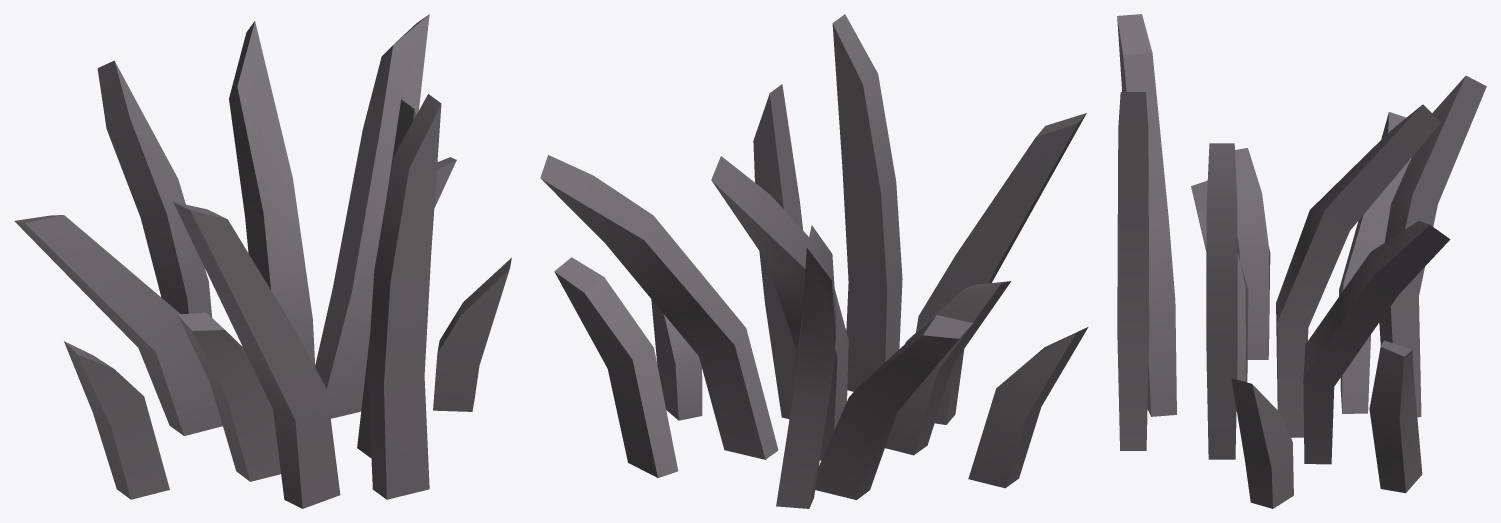
Rendered from quaternius-ultimate-space-pack-grass-1-transformed.glb.
3 renders of one model, left to right at view 1: azimuth 30°, elevation 25°; view 2: azimuth 150°, elevation 25°; view 3: azimuth 270°, elevation 25°, orthographic. The views are drawn at different scales.
Visible parts, largest first — view 1: Grass_1; view 2: Grass_1; view 3: Grass_1.
Boxes of the visible parts, x1,y1,x2,y2 form: Grass_1: [14, 14, 511, 508]; Grass_1: [540, 14, 1088, 508]; Grass_1: [1117, 14, 1486, 508].
Size of the model in its own units: 1.27 by 0.9906 by 0.9104.
1 material, 1 textured.
